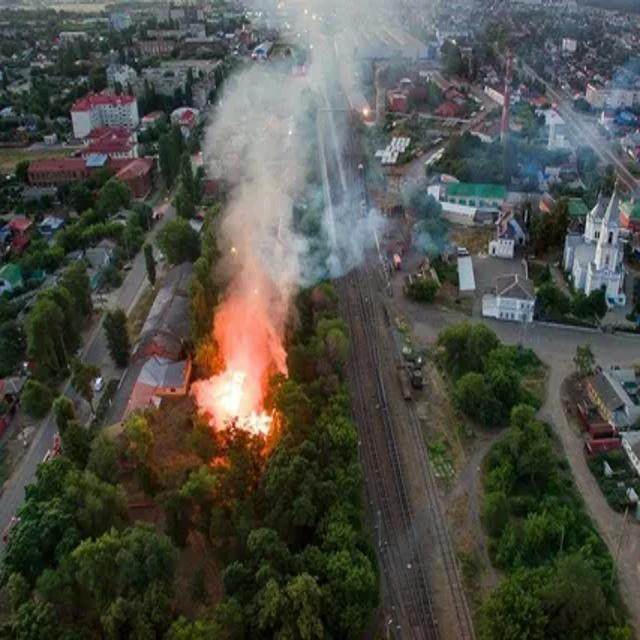Smoke: (196, 2, 383, 372)
